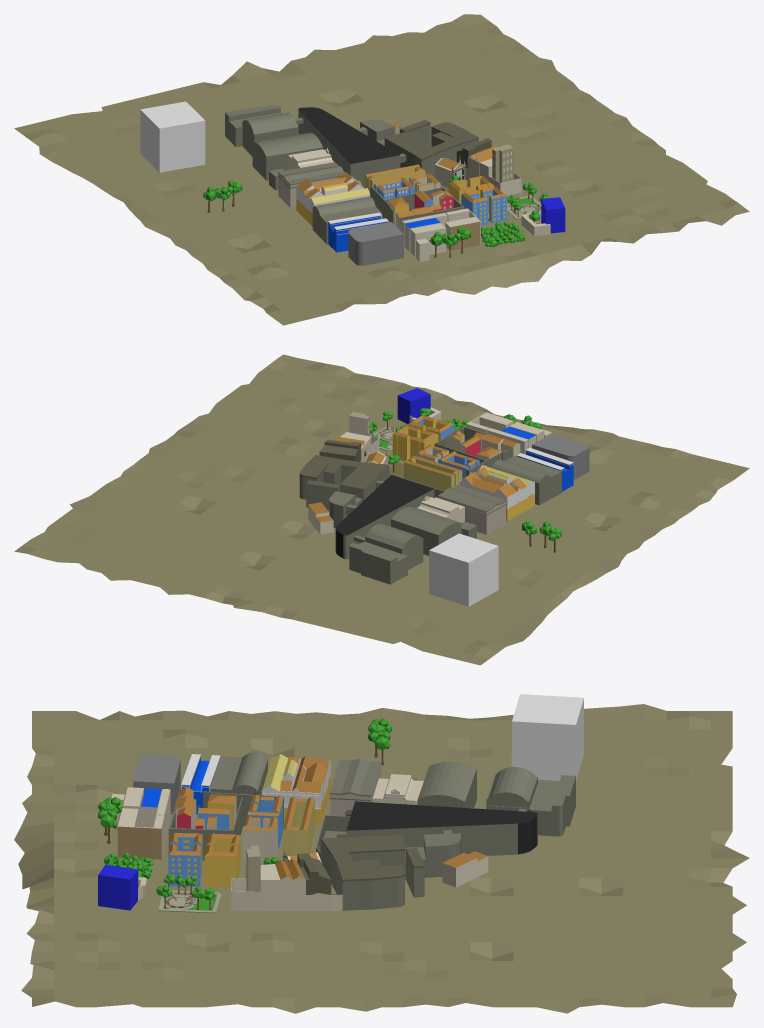
Rendered from Comunidade2.fbx.
3 views of the same model, one above another, from view 1: azimuth 30°, elevation 25°; view 2: azimuth 150°, elevation 25°; view 3: azimuth 270°, elevation 25° (orthographic). The views are drawn at different scales.
Parts seen in each view (by area): view 1: Plane, Cube.005, Cube.009, Cube.016, Cube.024, Cube, Cube.018, Cube.023, Cube.026, Cube.025, cesar, Cube.027 (+12 smaller); view 2: Plane, Cube.005, Cube.009, Cube, Cube.016, cesar, Cube.023, Cube.003, Cube.027, Cube.018, Cube.025, Cube.002 (+10 smaller); view 3: Plane, Cube.009, Cube.016, Cube.005, Cube.018, Cube, Cube.024, Cube.025, Cube.023, cesar, Cube.027, Cube.003 (+14 smaller).
Boxes of the visible parts, bbox=[...] form: Plane: bbox=[14, 14, 749, 325]; Cube.005: bbox=[140, 101, 205, 172]; Cube.009: bbox=[298, 107, 406, 187]; Cube.016: bbox=[384, 120, 478, 177]; Cube.024: bbox=[402, 208, 480, 261]; Cube: bbox=[225, 105, 303, 156]; Cube.018: bbox=[456, 138, 521, 195]; Cube.023: bbox=[370, 185, 464, 231]; Cube.026: bbox=[348, 222, 403, 265]; Cube.025: bbox=[448, 176, 506, 225]; cesar: bbox=[296, 172, 370, 226]; Cube.027: bbox=[252, 132, 322, 180]; Plane: bbox=[14, 354, 749, 665]; Cube.005: bbox=[429, 533, 498, 606]; Cube.009: bbox=[335, 475, 444, 559]; Cube: bbox=[349, 523, 423, 584]; Cube.016: bbox=[299, 455, 389, 510]; cesar: bbox=[459, 465, 534, 520]; Cube.023: bbox=[434, 426, 520, 476]; Cube.003: bbox=[438, 484, 506, 534]; Cube.027: bbox=[391, 506, 461, 555]; Cube.018: bbox=[319, 412, 379, 462]; Cube.025: bbox=[392, 415, 453, 461]; Cube.002: bbox=[491, 456, 561, 505]; Plane: bbox=[14, 704, 749, 1013]; Cube.009: bbox=[316, 801, 537, 858]; Cube.016: bbox=[320, 834, 424, 910]; Cube.005: bbox=[511, 694, 583, 780]; Cube.018: bbox=[231, 845, 342, 910]; Cube: bbox=[468, 767, 575, 836]; Cube.024: bbox=[111, 787, 170, 859]; Cube.025: bbox=[168, 833, 240, 887]; Cube.023: bbox=[168, 787, 283, 860]; cesar: bbox=[261, 754, 330, 824]; Cube.027: bbox=[417, 762, 476, 807]; Cube.003: bbox=[329, 758, 381, 816].
Bounding box in the file's own units: 4237 × 492 × 4301.
